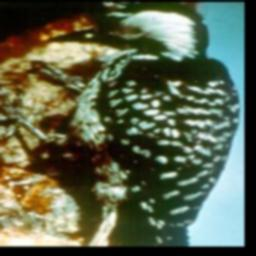Woodpecker: (0, 3, 240, 245)
